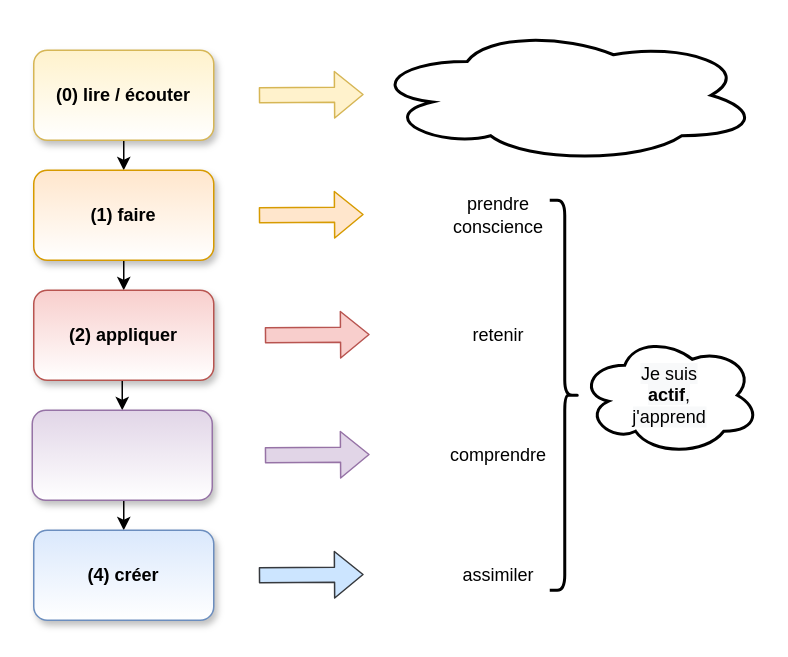
Some shapes in this 788 by 657 pixel diagram are drawn without their labels. The centre of each missing label's shape, as x and y in pixels:
(3) transférer: point (123, 457)
je prend note parce que j'oublie, je suis passif: point (564, 95)
